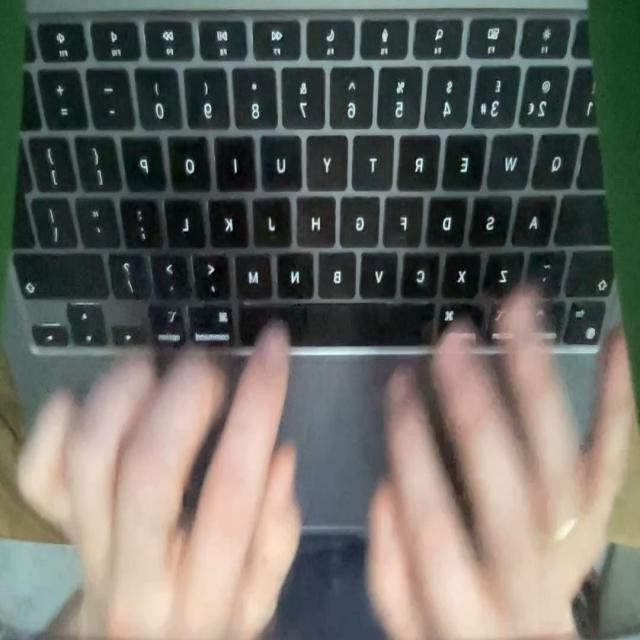keyboard-with-hands: (0, 0, 620, 530)
